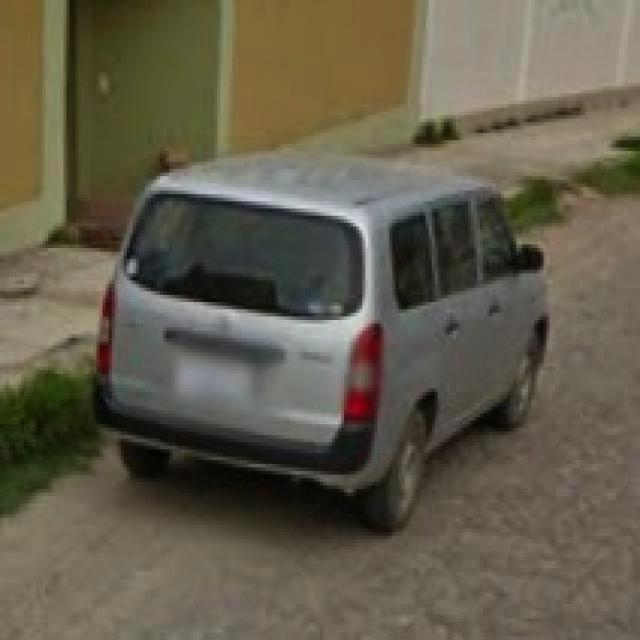car: (67, 134, 574, 548)
